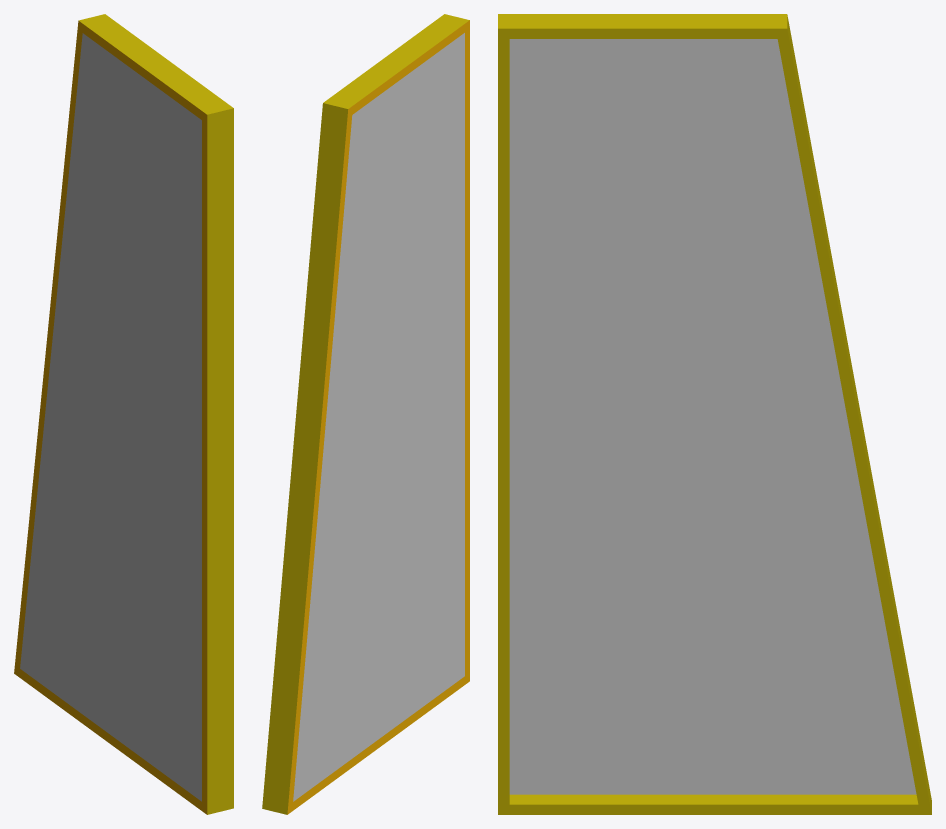
The model's file is window_slanted_interface_2x1x5.dae.
The picture shows the model from 3 angles, left to right: view 1: azimuth 30°, elevation 25°; view 2: azimuth 150°, elevation 25°; view 3: azimuth 270°, elevation 25°; orthographic projection. The views are drawn at different scales.
Visible parts, largest first — view 1: Cube; view 2: Cube; view 3: Cube.
Boxes of the visible parts, x1,y1,x2,y2 form: Cube: [14, 14, 233, 814]; Cube: [262, 14, 469, 814]; Cube: [498, 14, 931, 814].
Bounding box in the file's own units: 0.06 × 0.75 × 1.5.
